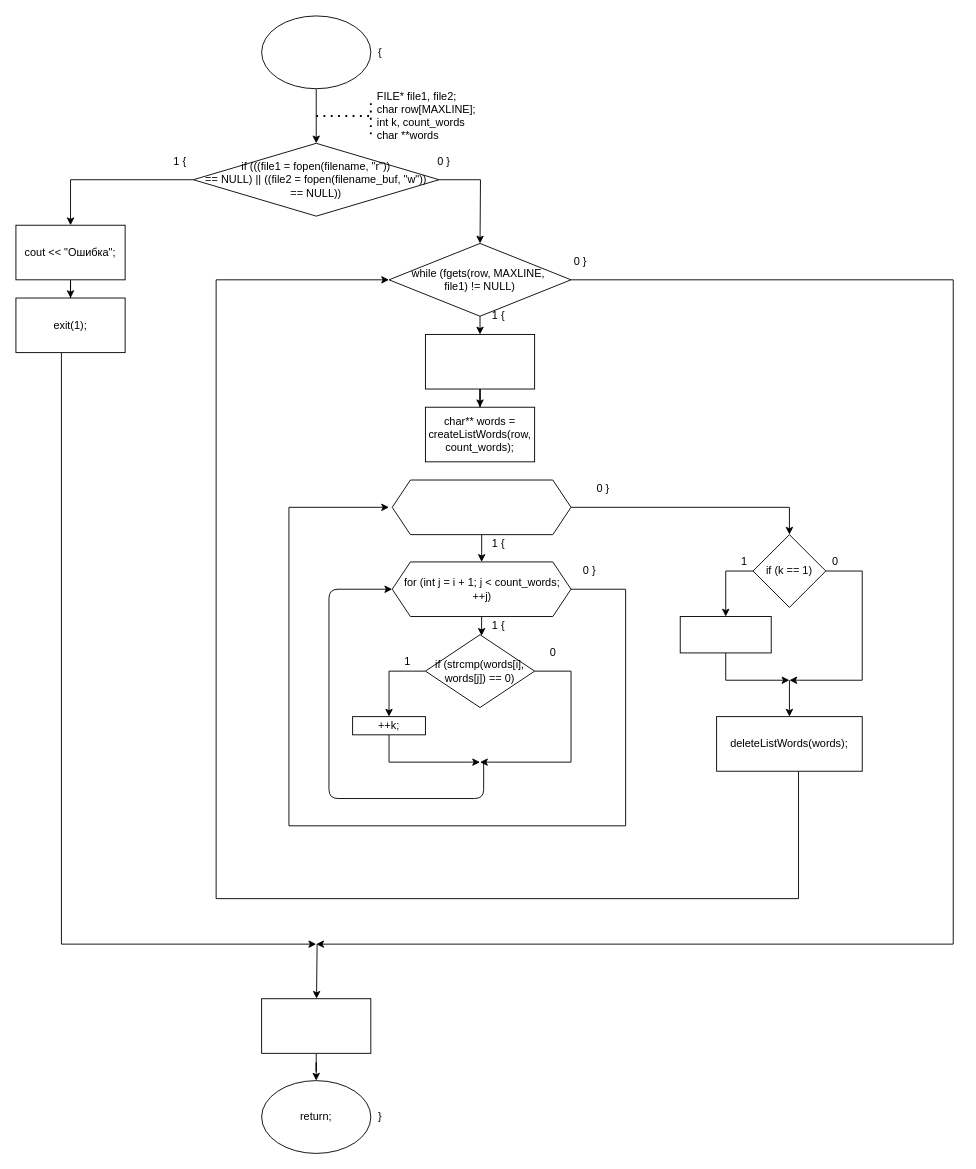
Some shapes in this 976 by 1169 pixel diagram are drawn without their labels. Here are the shapes that lost their labels. From the top down, the centre of each, then its label:
At pixel 316 52: "void coperating()".
At pixel 480 361: "k = 0; count_words = 0;".
At pixel 481 507: "for (int i = 0; i < count_words - 1; ++i)".
At pixel 725 634: "fputs(row, file2);".
At pixel 316 1025: "fclose(file1); fclose(file2);".
